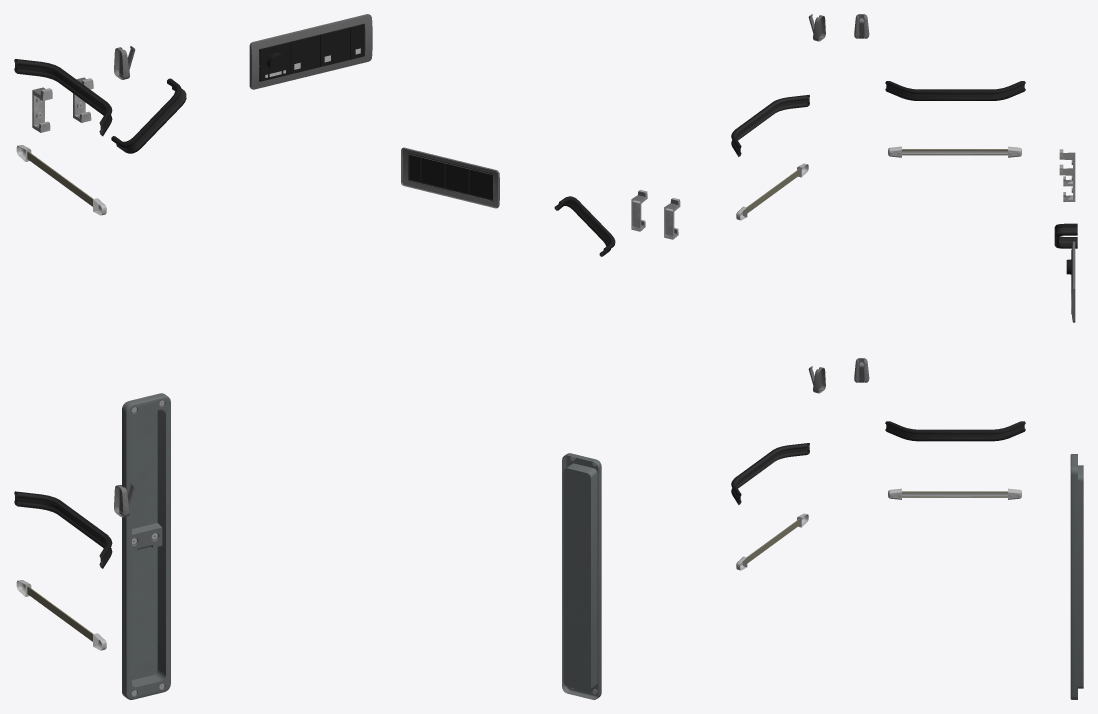
The model's file is Vagon_Stateroom_ConductRoom_Equipment_01.fbx.
3 renders of one model, left to right at view 1: azimuth 30°, elevation 25°; view 2: azimuth 150°, elevation 25°; view 3: azimuth 270°, elevation 25°, orthographic. The views are drawn at different scales.
Visible parts, largest first — view 1: Vagon_Stateroom_ConductRoom_Equipment_01; view 2: Vagon_Stateroom_ConductRoom_Equipment_01; view 3: Vagon_Stateroom_ConductRoom_Equipment_01.
Part boxes in pixels (box(x1,y1,x2,y2)): Vagon_Stateroom_ConductRoom_Equipment_01: box(14, 14, 372, 699); Vagon_Stateroom_ConductRoom_Equipment_01: box(401, 14, 825, 699); Vagon_Stateroom_ConductRoom_Equipment_01: box(854, 14, 1083, 699).
Size of the model in its own units: 0.9272 by 1.79 by 0.6048.
